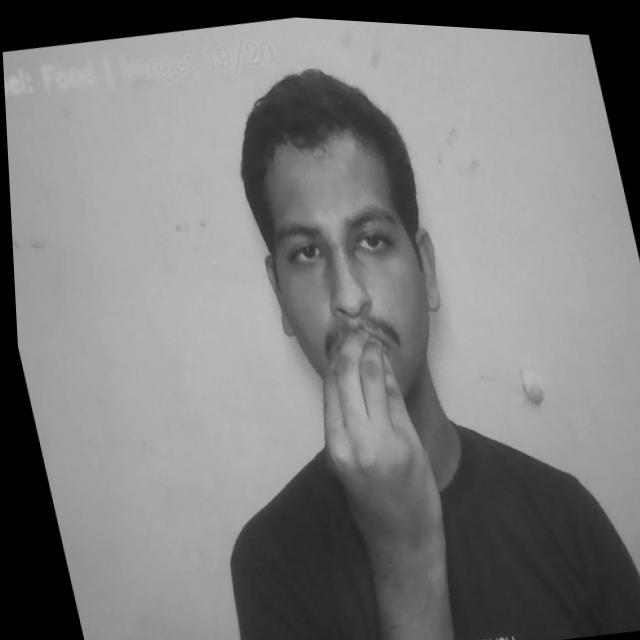Food: (289, 311, 468, 640)
